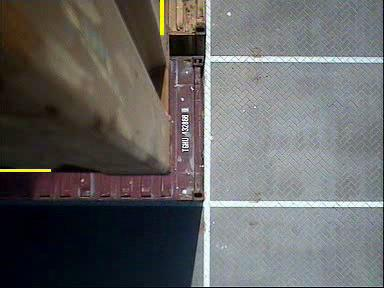groundmarker_2: (159, 75, 248, 113)
